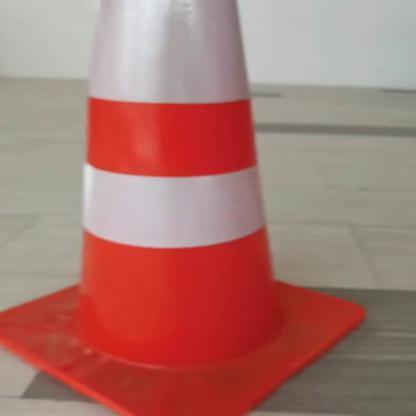cone: (4, 0, 373, 416)
